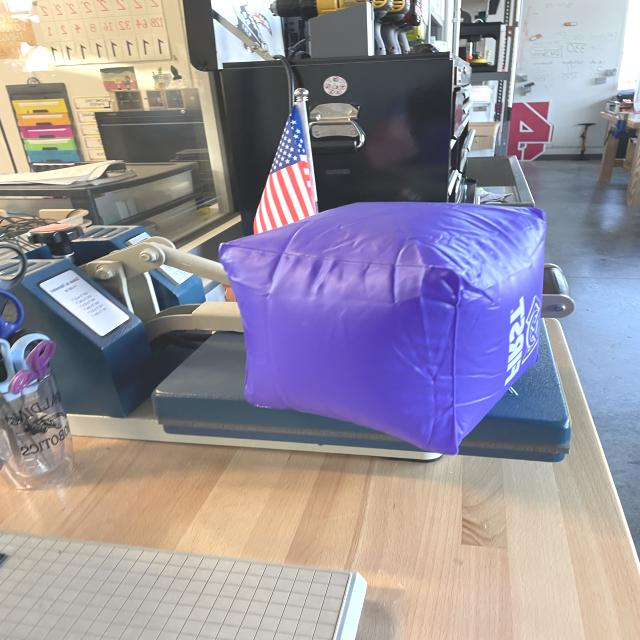frc_cube: (207, 189, 581, 458)
